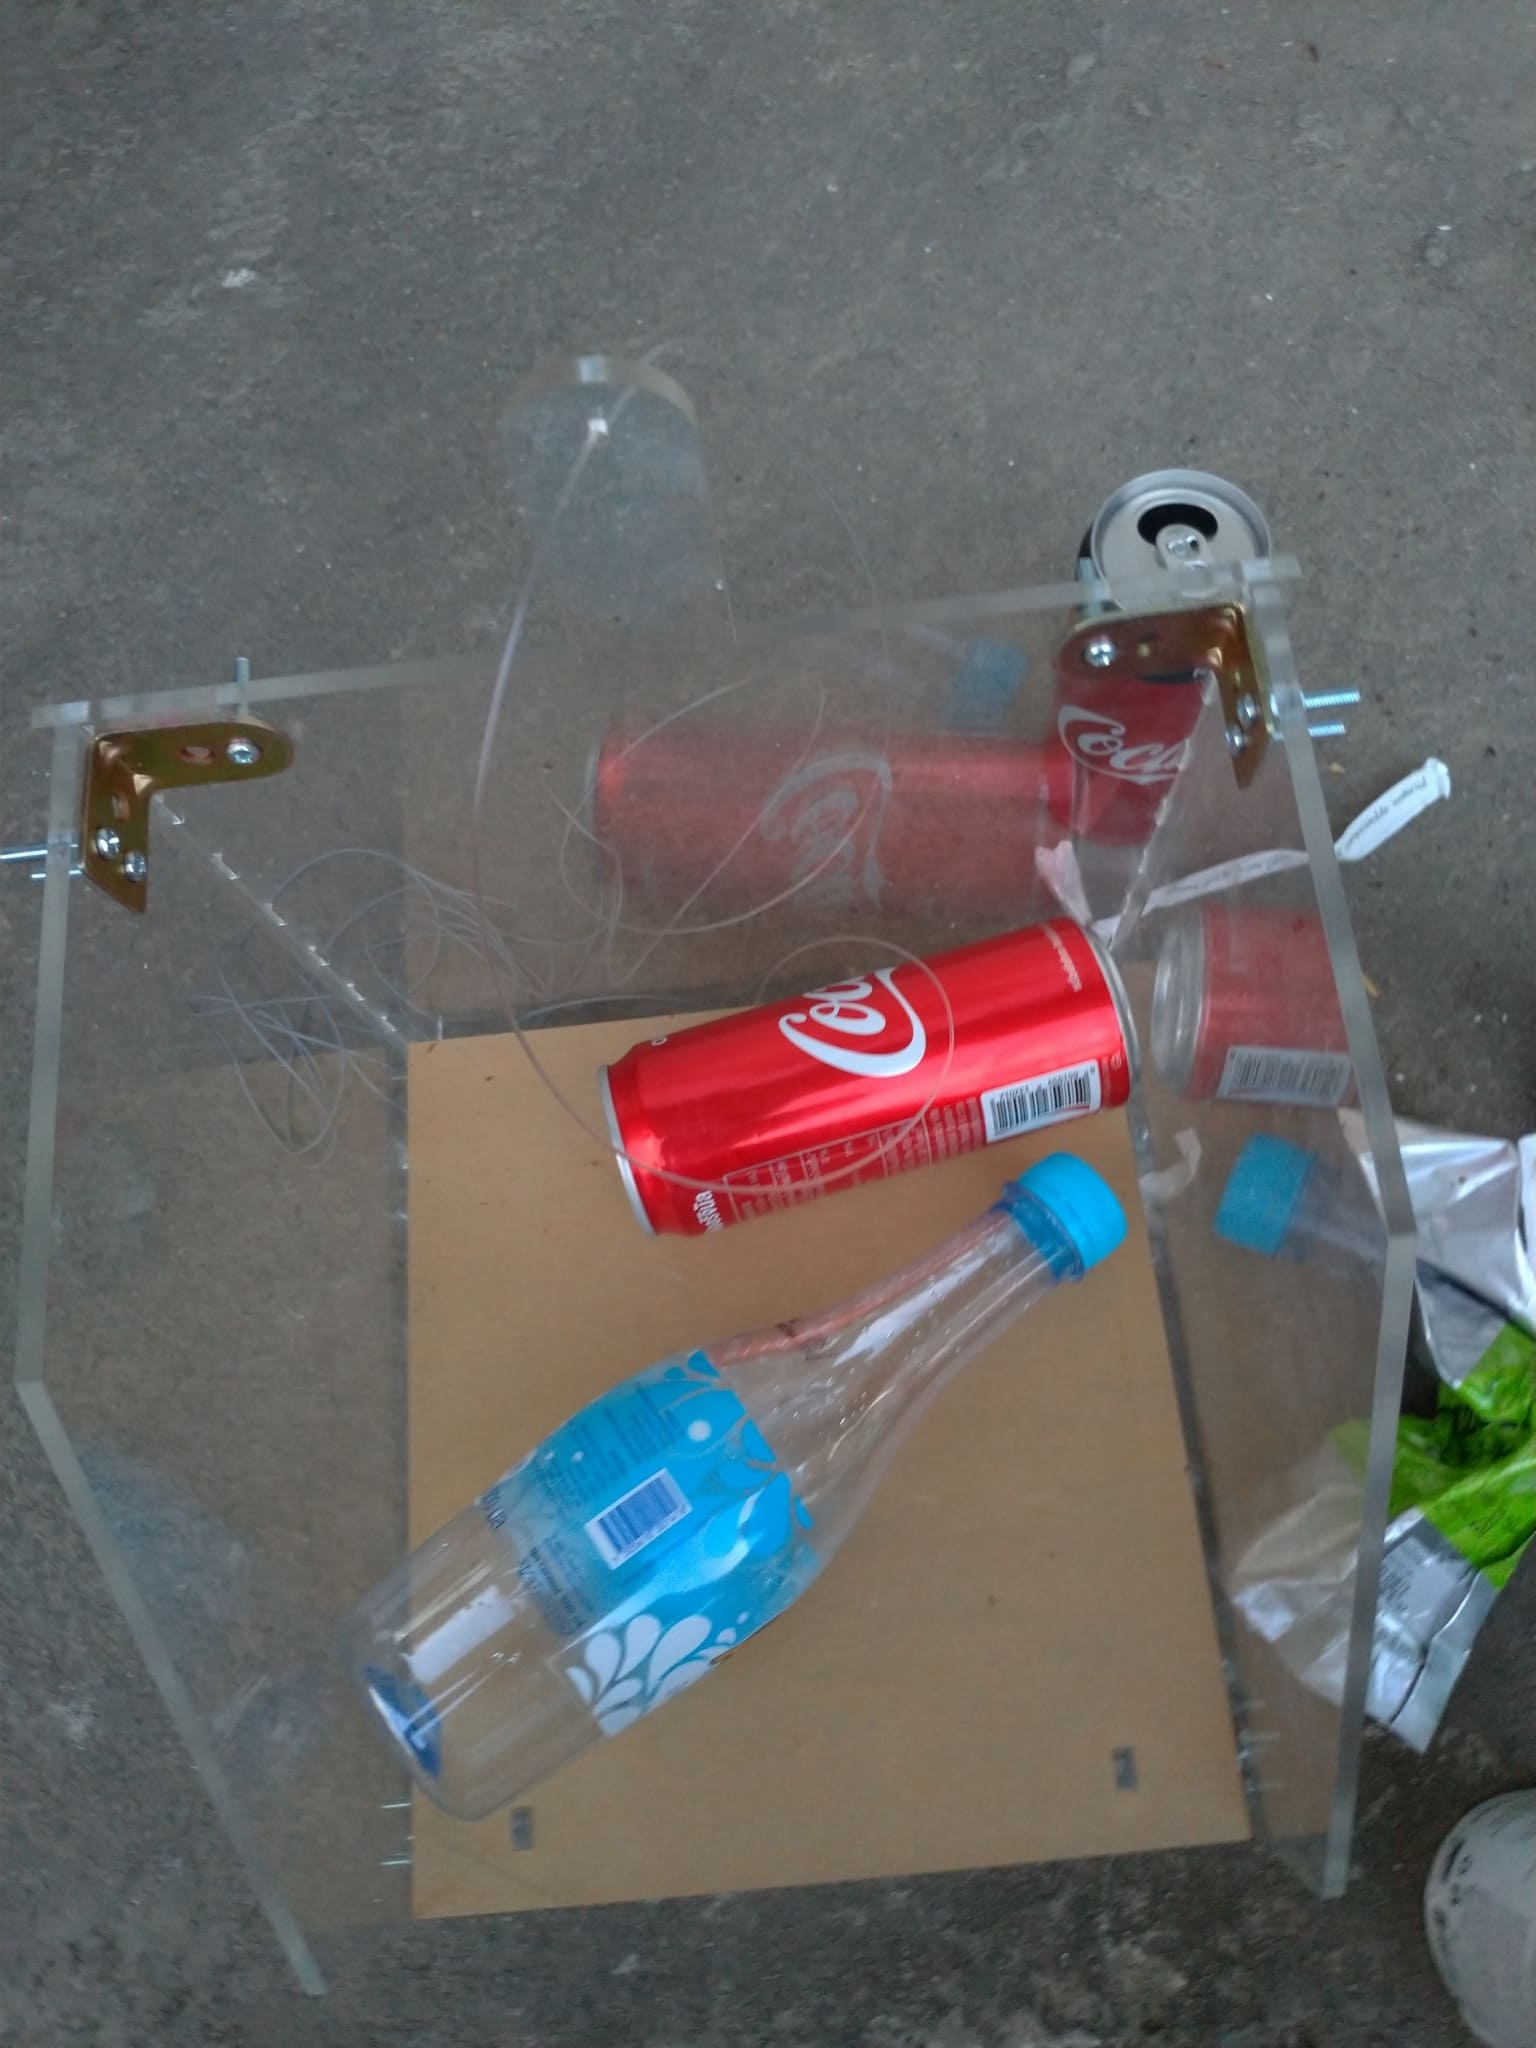AlCan: (599, 922, 1144, 1229), (1073, 471, 1260, 858), (1425, 1780, 1536, 2038)
Others: (1234, 1106, 1536, 1724)
PlasticBottle: (350, 1161, 1131, 1813)
